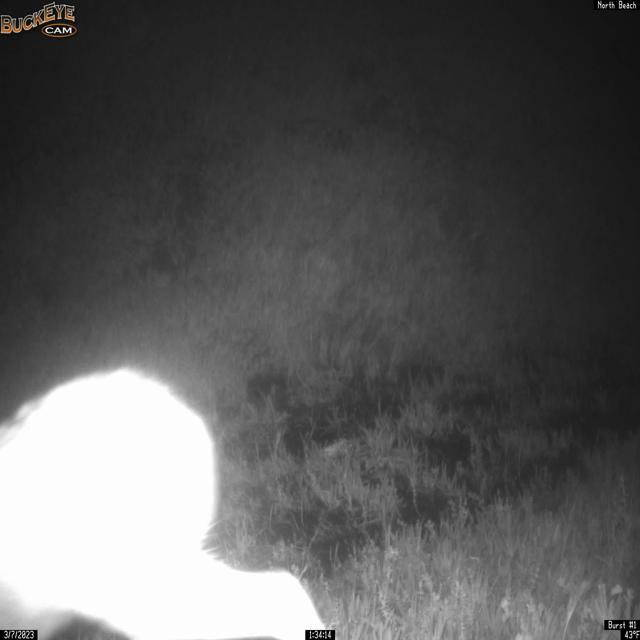deer: (0, 365, 328, 640)
